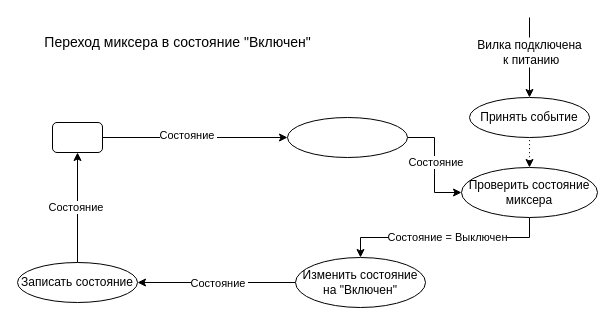
The diagram is 615 pixels wide and 325 high, and some of its shapes have lost their labels. The box of each missing label's shape, as (x1, y1, x2, y2) in pixels:
Миксер: (52, 122, 102, 152)
Считать текущее состояние: (286, 116, 408, 158)
